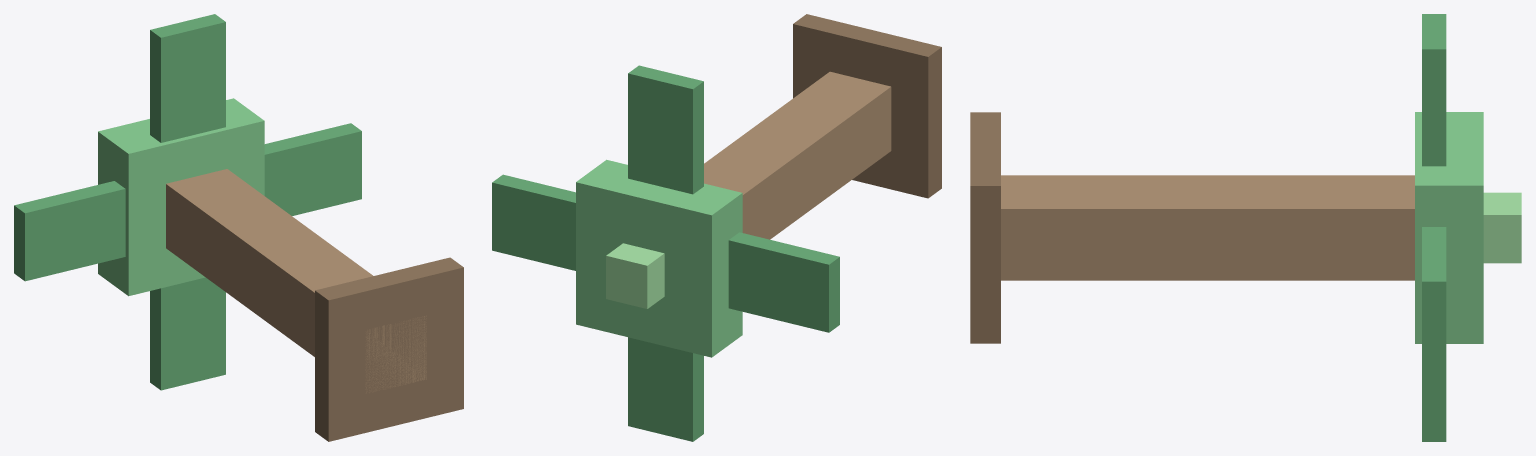
The model's file is prehistoric_tree.glb.
3 renders of one model, left to right at view 1: azimuth 30°, elevation 25°; view 2: azimuth 150°, elevation 25°; view 3: azimuth 270°, elevation 25°, orthographic. The views are drawn at different scales.
Parts seen in each view (by area): view 1: prehistoric_tree_Roots, prehistoric_tree_TrunkMain, prehistoric_tree_Crown, prehistoric_tree_FrondW, prehistoric_tree_FrondN, prehistoric_tree_FrondS, prehistoric_tree_FrondE; view 2: prehistoric_tree_Crown, prehistoric_tree_TrunkMain, prehistoric_tree_Roots, prehistoric_tree_FrondW, prehistoric_tree_FrondN, prehistoric_tree_FrondS, prehistoric_tree_FrondE, prehistoric_tree_Bud; view 3: prehistoric_tree_TrunkMain, prehistoric_tree_Crown, prehistoric_tree_Roots, prehistoric_tree_FrondN, prehistoric_tree_FrondE, prehistoric_tree_Bud, prehistoric_tree_FrondS.
Part boxes in pixels (bbox=[...]): prehistoric_tree_Roots: bbox=[315, 257, 463, 441]; prehistoric_tree_TrunkMain: bbox=[166, 169, 426, 393]; prehistoric_tree_Crown: bbox=[98, 98, 264, 296]; prehistoric_tree_FrondW: bbox=[14, 181, 125, 281]; prehistoric_tree_FrondN: bbox=[150, 14, 225, 142]; prehistoric_tree_FrondS: bbox=[150, 277, 225, 390]; prehistoric_tree_FrondE: bbox=[264, 123, 361, 215]; prehistoric_tree_Crown: bbox=[576, 159, 742, 357]; prehistoric_tree_TrunkMain: bbox=[704, 71, 891, 239]; prehistoric_tree_Roots: bbox=[793, 14, 941, 198]; prehistoric_tree_FrondW: bbox=[728, 232, 839, 332]; prehistoric_tree_FrondN: bbox=[628, 65, 703, 194]; prehistoric_tree_FrondS: bbox=[628, 337, 703, 441]; prehistoric_tree_FrondE: bbox=[492, 174, 575, 270]; prehistoric_tree_Bud: bbox=[606, 243, 664, 308]; prehistoric_tree_TrunkMain: bbox=[1001, 175, 1414, 280]; prehistoric_tree_Crown: bbox=[1415, 112, 1483, 343]; prehistoric_tree_Roots: bbox=[970, 112, 1000, 343]; prehistoric_tree_FrondN: bbox=[1422, 14, 1446, 166]; prehistoric_tree_FrondE: bbox=[1422, 227, 1446, 357]; prehistoric_tree_Bud: bbox=[1483, 192, 1521, 263]; prehistoric_tree_FrondS: bbox=[1422, 357, 1446, 441].
Size of the model in its own units: 2.85 by 2.85 by 3.62.
